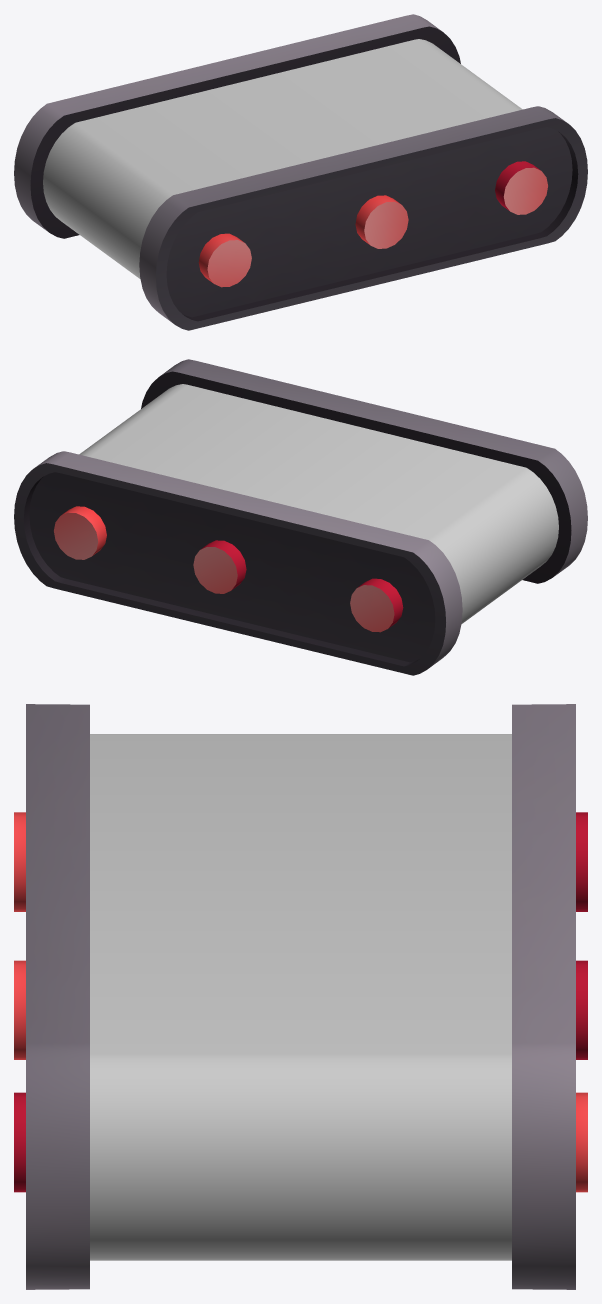
Rendered from Tray.fbx.
3 views of the same model, one above another, from view 1: azimuth 30°, elevation 25°; view 2: azimuth 150°, elevation 25°; view 3: azimuth 270°, elevation 25° (orthographic). The views are drawn at different scales.
Parts seen in each view (by area): view 1: Tray, Tray.001; view 2: Tray, Tray.001; view 3: Tray.001, Tray.
Boxes of the visible parts, x1,y1,x2,y2 form: Tray: [14, 14, 587, 330]; Tray.001: [43, 39, 522, 279]; Tray: [14, 359, 587, 675]; Tray.001: [79, 384, 558, 624]; Tray.001: [90, 734, 511, 1260]; Tray: [14, 704, 587, 1289].
Size of the model in its own units: 595 by 163 by 353.
